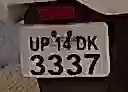1: (52, 36, 63, 53)
3: (65, 50, 82, 76), (28, 54, 46, 76), (48, 50, 63, 76)
4: (63, 36, 73, 51)
7: (82, 51, 104, 75)
D: (73, 33, 86, 51)
K: (87, 33, 100, 52)
P: (39, 34, 50, 53)
U: (27, 34, 39, 51)
